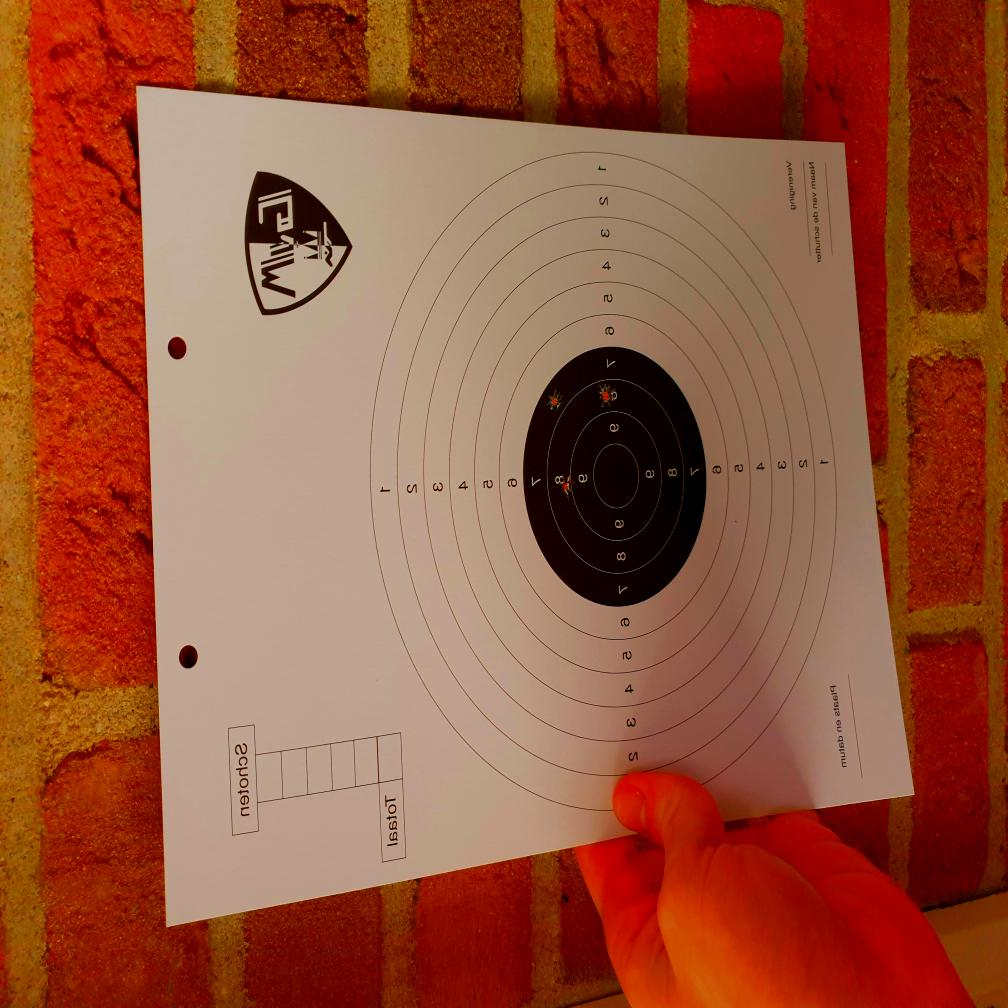7: (547, 390, 562, 411)
8: (597, 384, 616, 408)
9: (560, 473, 576, 502)
Target: (369, 150, 837, 805)
black_contour: (523, 347, 707, 607)
